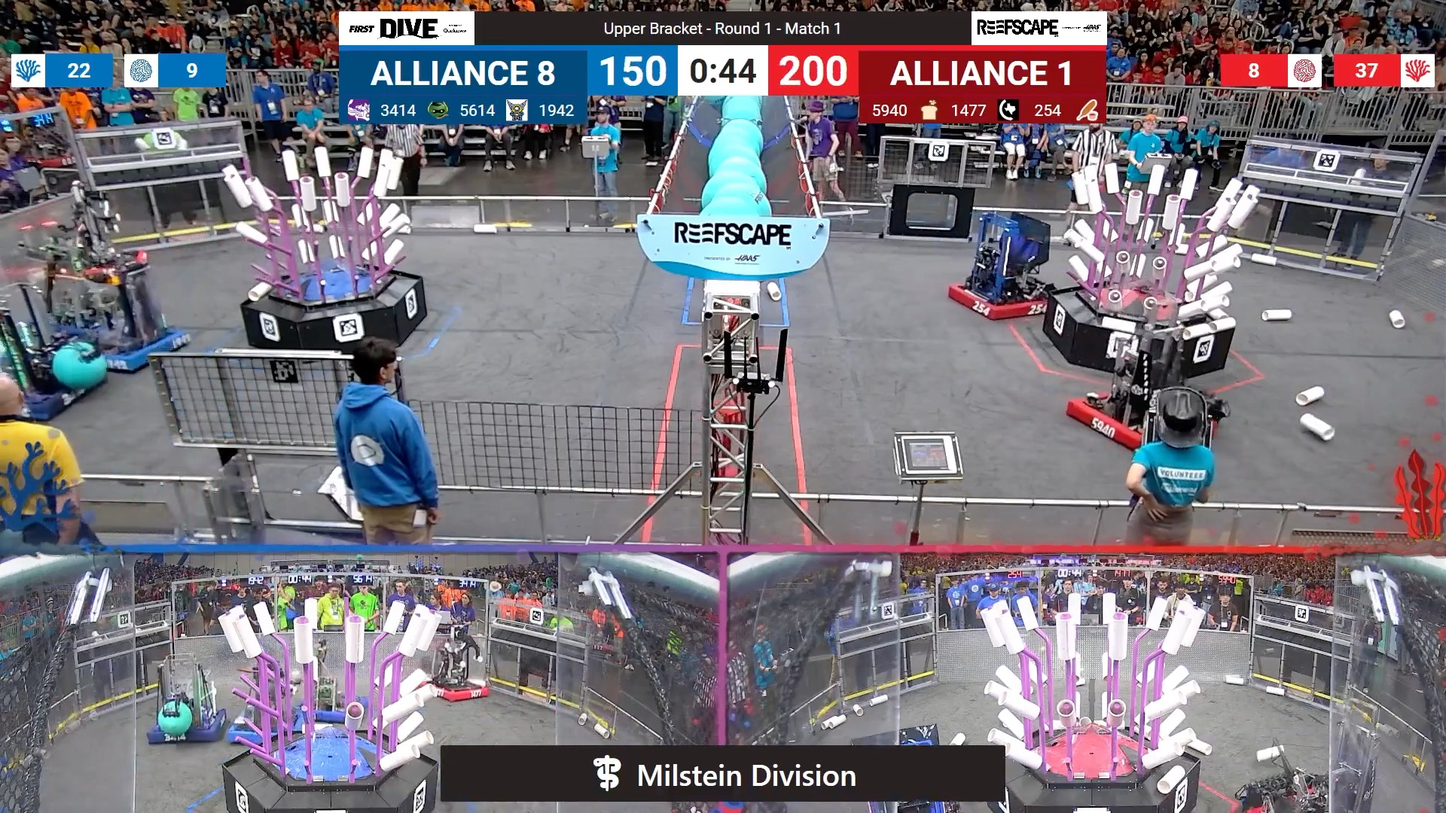bumpers: (1058, 387, 1195, 453), (59, 324, 199, 377), (937, 277, 1057, 326), (0, 365, 105, 417), (141, 698, 230, 751), (1224, 778, 1342, 813), (423, 674, 497, 701)
